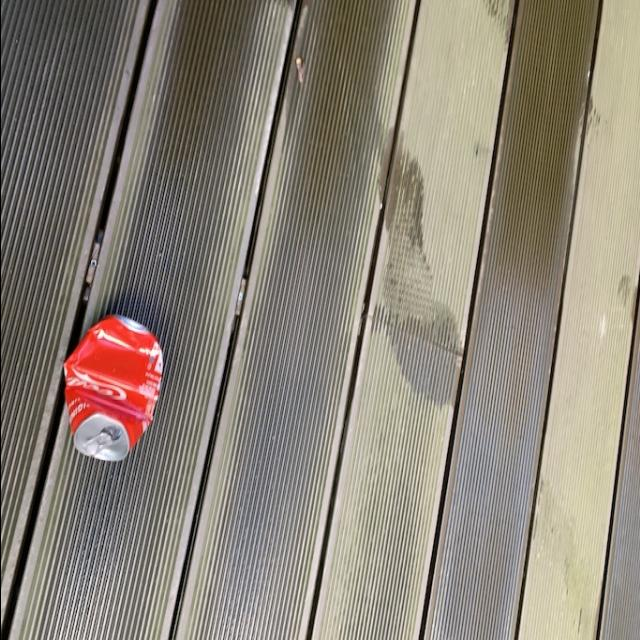Aluminum Can: (55, 314, 164, 466)
